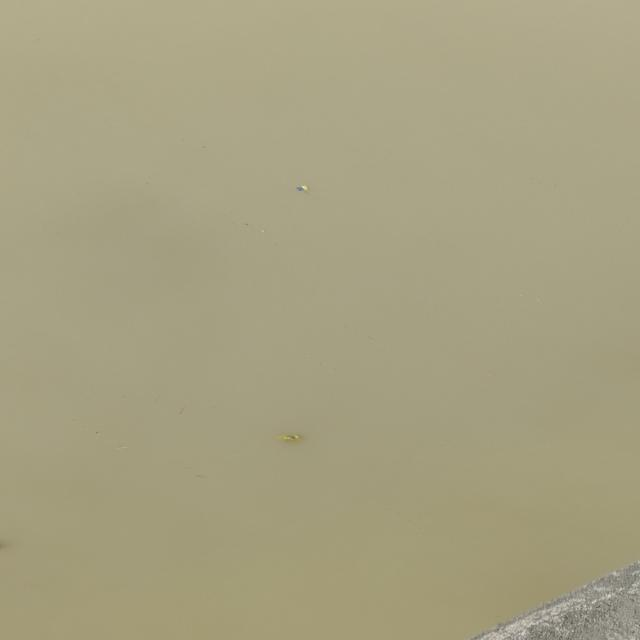Plastic: (274, 433, 304, 444), (296, 182, 310, 192)
